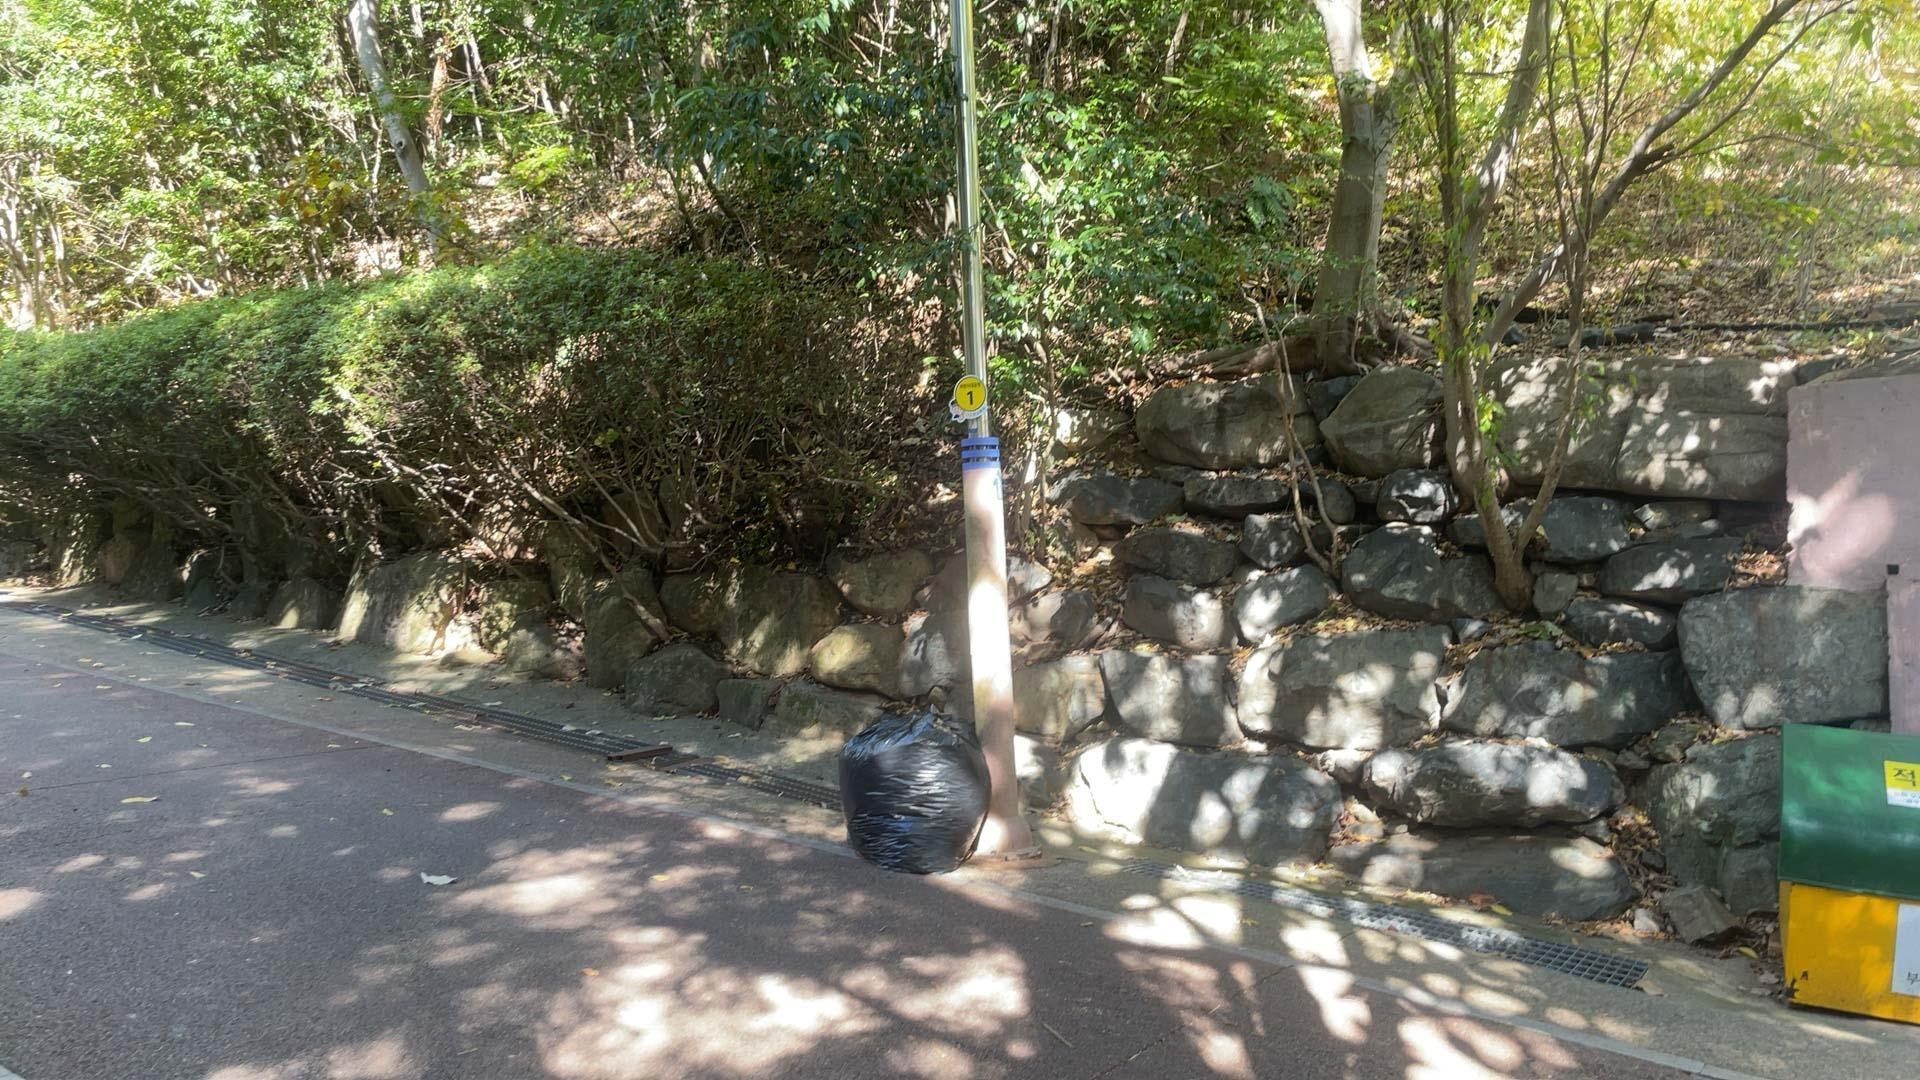black_bag: (833, 688, 992, 880)
